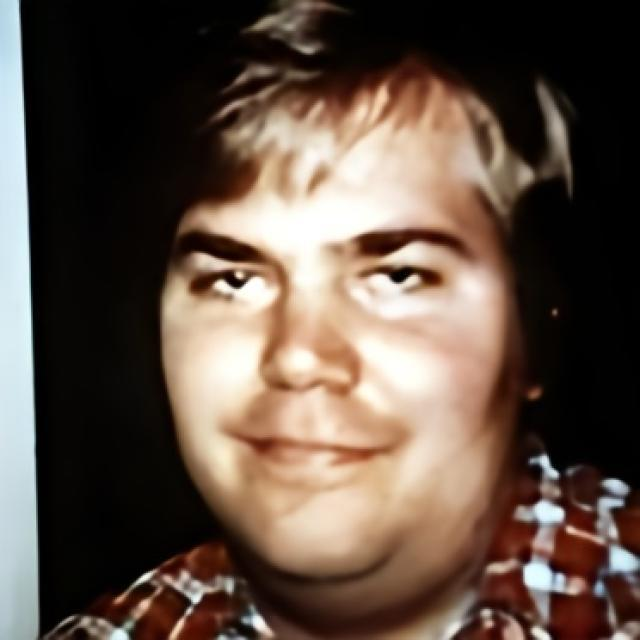content: (162, 89, 512, 572)
